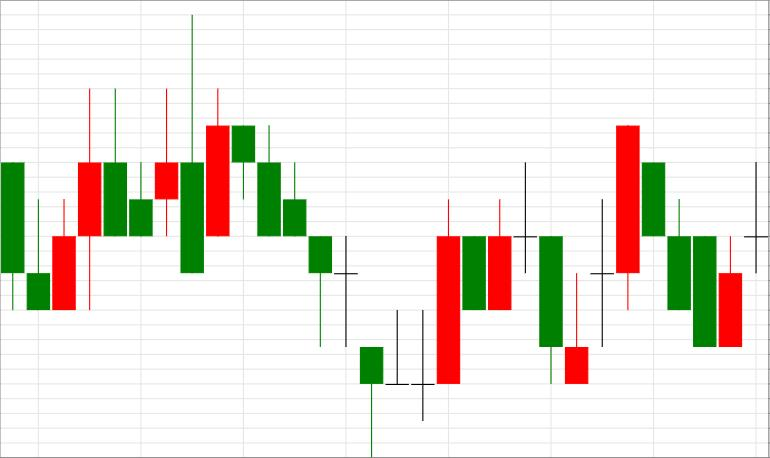hammer_rise: (232, 126, 382, 458)
